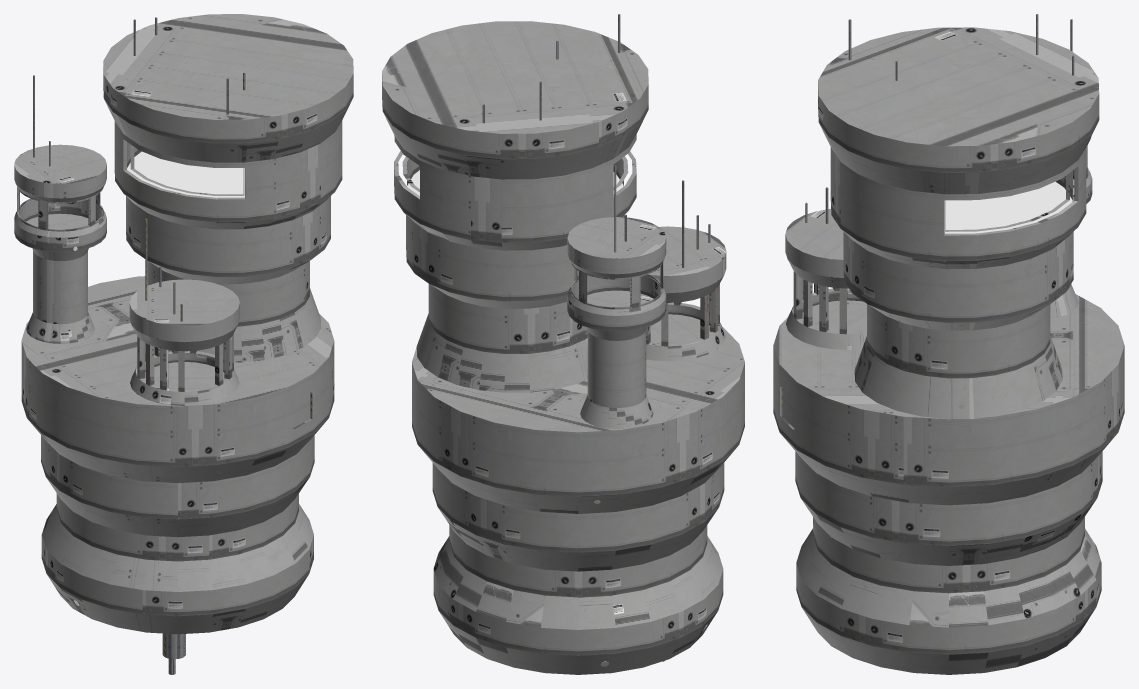
The picture shows the model from 3 angles, left to right: view 1: azimuth 30°, elevation 25°; view 2: azimuth 150°, elevation 25°; view 3: azimuth 270°, elevation 25°; orthographic projection. The views are drawn at different scales.
Visible parts, largest first — view 1: Material2.001, Material2.007, Material2.005, Material2.009, Material2.019, Material2.056, Material2.058, Material2.013, Material2.057, Material2.018, Material2.021, Material2.060 (+2 smaller); view 2: Material2.001, Material2.007, Material2.005, Material2.009, Material2.056, Material2.058, Material2.019, Material2.057, Material2.060, Material2.018, Material2.021, Material2.010 (+1 smaller); view 3: Material2.001, Material2.007, Material2.005, Material2.009, Material2.013, Material2.019, Material2.018, Material2.021, Material2.010, Material2.056.
Boxes of the visible parts, x1,y1,x2,y2 form: Material2.001: (21, 276, 334, 634); Material2.007: (103, 14, 353, 162); Material2.005: (124, 192, 334, 362); Material2.009: (114, 120, 342, 222); Material2.019: (129, 279, 239, 351); Material2.056: (26, 248, 94, 343); Material2.058: (14, 144, 106, 202); Material2.013: (127, 151, 244, 197); Material2.057: (14, 199, 106, 252); Material2.018: (130, 351, 239, 405); Material2.021: (145, 352, 224, 389); Material2.060: (19, 200, 102, 229); Material2.001: (412, 327, 744, 674); Material2.007: (382, 21, 648, 179); Material2.005: (404, 211, 627, 392); Material2.009: (394, 134, 636, 242); Material2.056: (580, 327, 653, 428); Material2.058: (567, 217, 666, 278); Material2.019: (649, 226, 726, 302); Material2.057: (567, 275, 666, 331); Material2.060: (572, 275, 661, 307); Material2.018: (646, 302, 725, 361); Material2.021: (650, 304, 709, 343); Material2.010: (402, 156, 628, 192); Material2.001: (773, 294, 1124, 674); Material2.007: (818, 27, 1099, 194); Material2.005: (841, 227, 1077, 418); Material2.009: (830, 147, 1086, 261); Material2.013: (944, 181, 1072, 233); Material2.019: (785, 209, 848, 288); Material2.018: (786, 288, 866, 349); Material2.021: (802, 290, 866, 331); Material2.010: (945, 170, 1072, 231); Material2.056: (1050, 284, 1078, 318).
Bounding box in the file's own units: 1237 × 2329 × 1121.
Materials: 7 (6 with a texture image).
